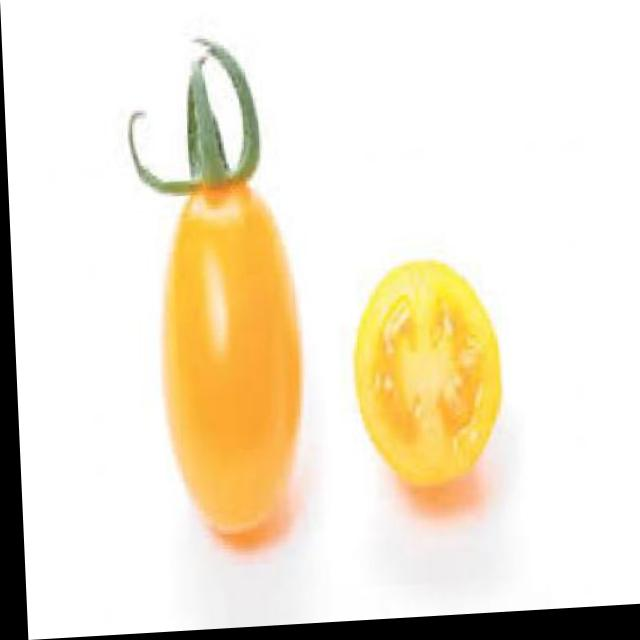sari: (117, 155, 321, 555)
